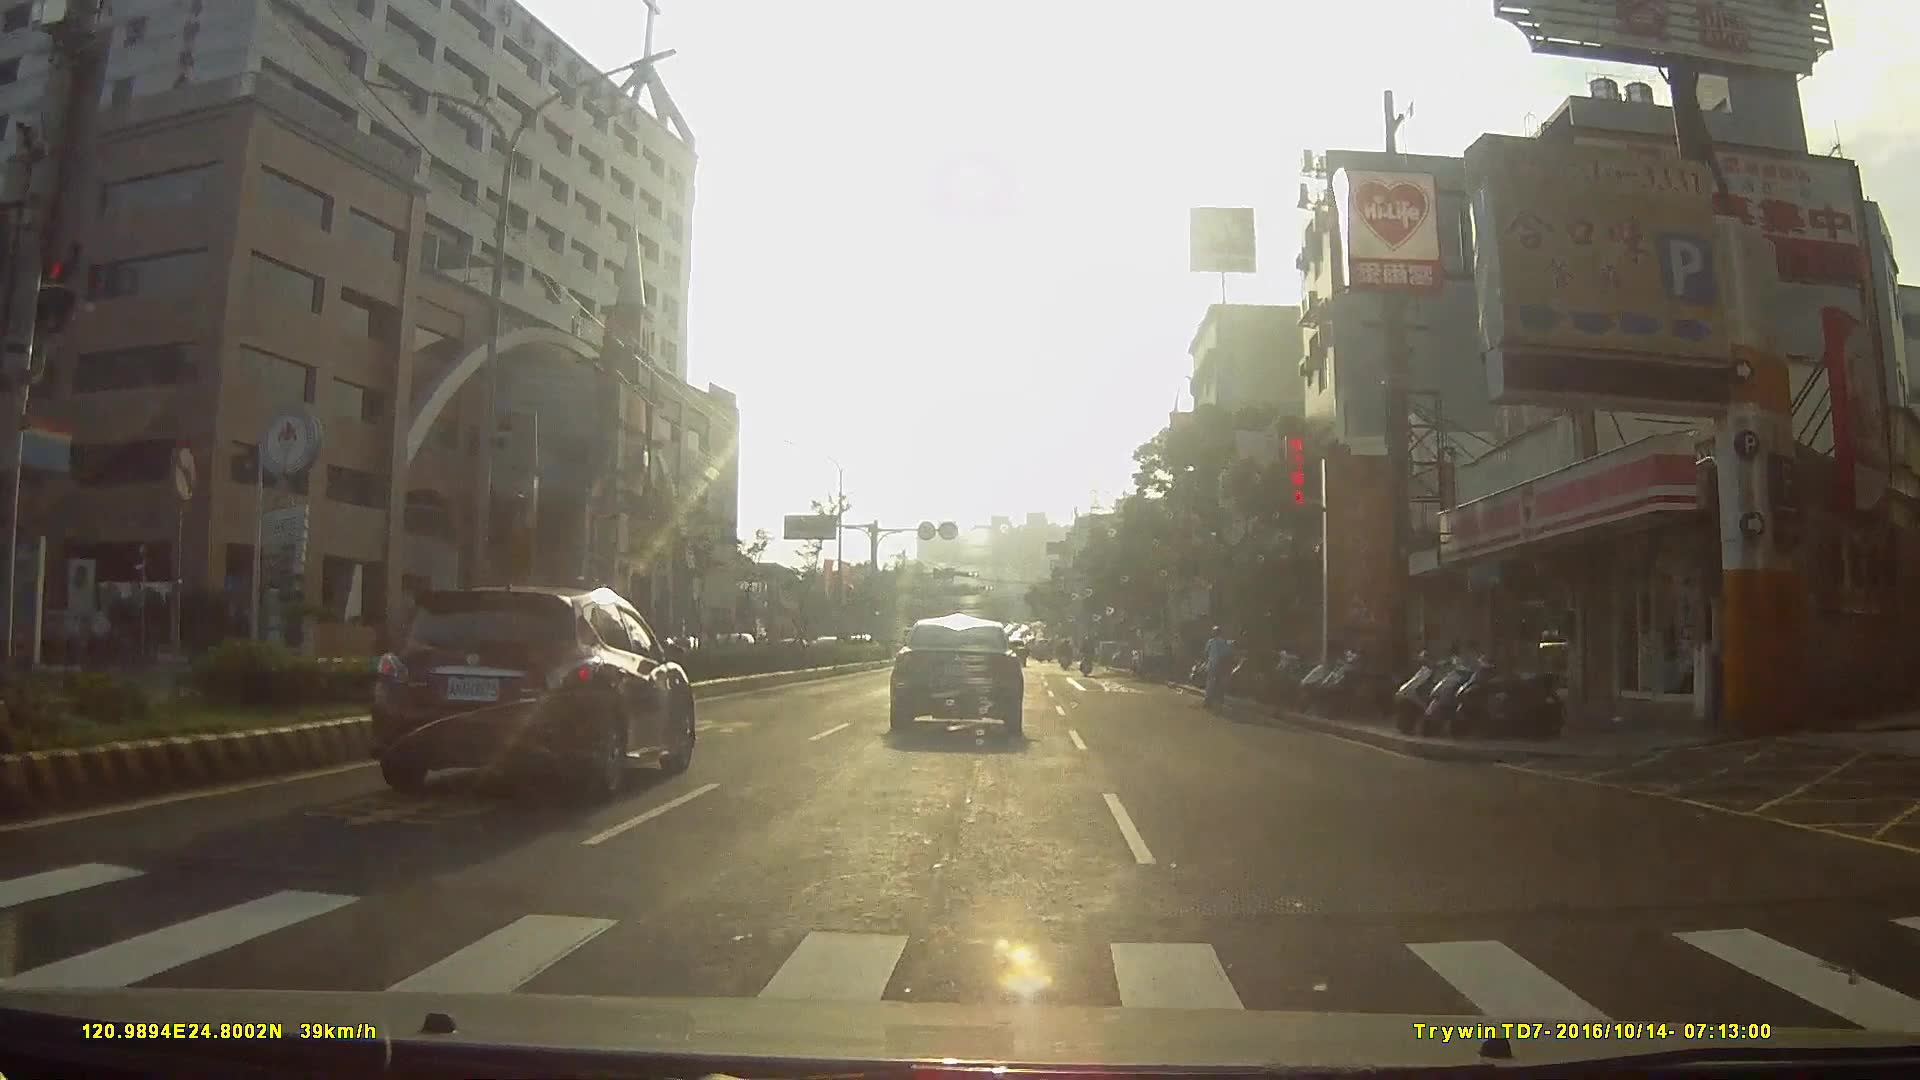rider: (1197, 625, 1234, 707)
vehicle: (357, 571, 712, 807), (888, 615, 1040, 749), (763, 607, 822, 662), (1131, 625, 1183, 678)
